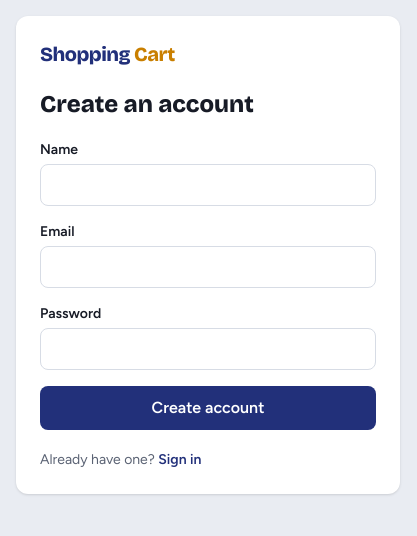
Test: auth forms › requires an 8 character password to register
Type "Asha" into the field labelled "Name" at {"x": 208, "y": 185}, box [40,164,376,206]
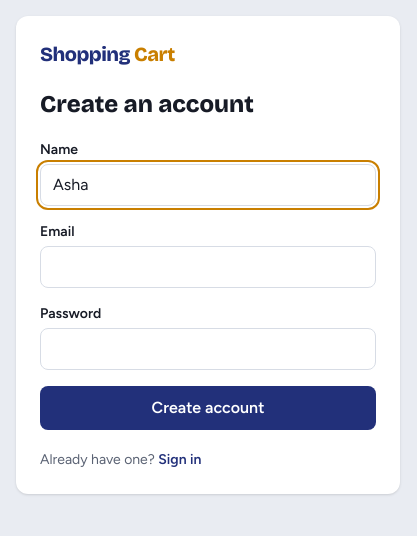
Type "asha@example.com" into the field labelled "Email" at {"x": 208, "y": 267}, box [40,246,376,288]
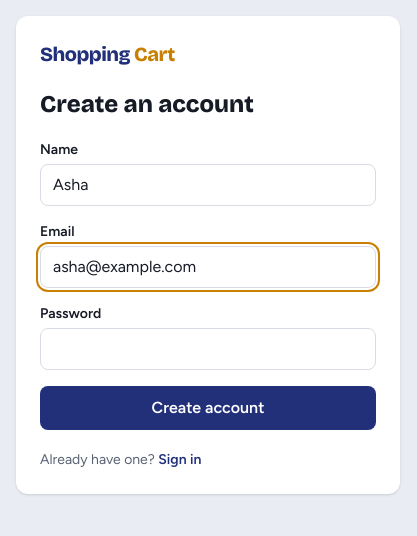
Type "short" into the password field labelled "Password" at {"x": 208, "y": 349}, box [40,328,376,370]
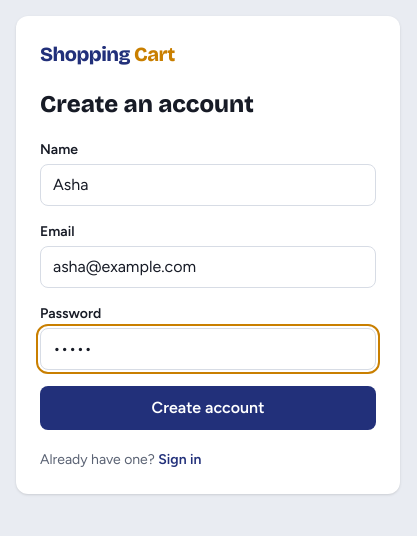
Click the button "Create account" at {"x": 208, "y": 408}, box [40,386,376,430]
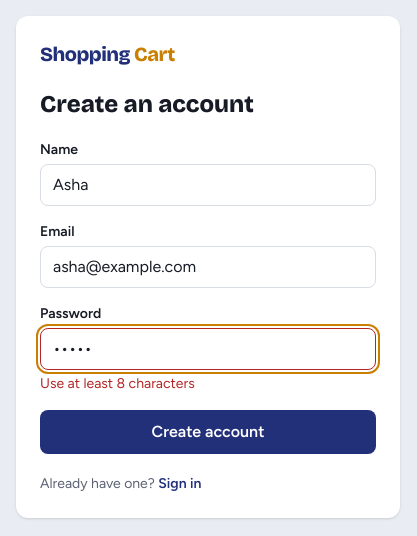
expect the text "Use at least 8 characters" is shown: met, box [40,375,195,392]
